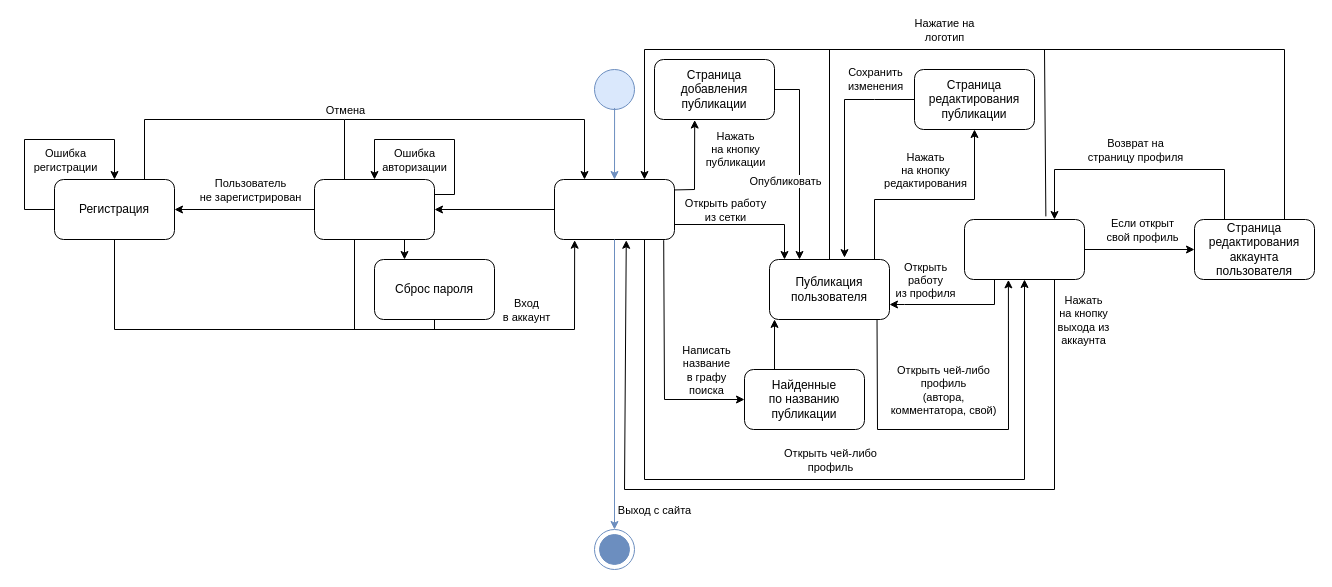
Some shapes in this 1332 by 587 pixel diagram are drawn without their labels. The centre of each missing label's shape, as x and y in pixels:
"Авторизация" goes at (374,209).
"Главная страница" goes at (614,209).
"Профиль пользователя" goes at (1024,249).
